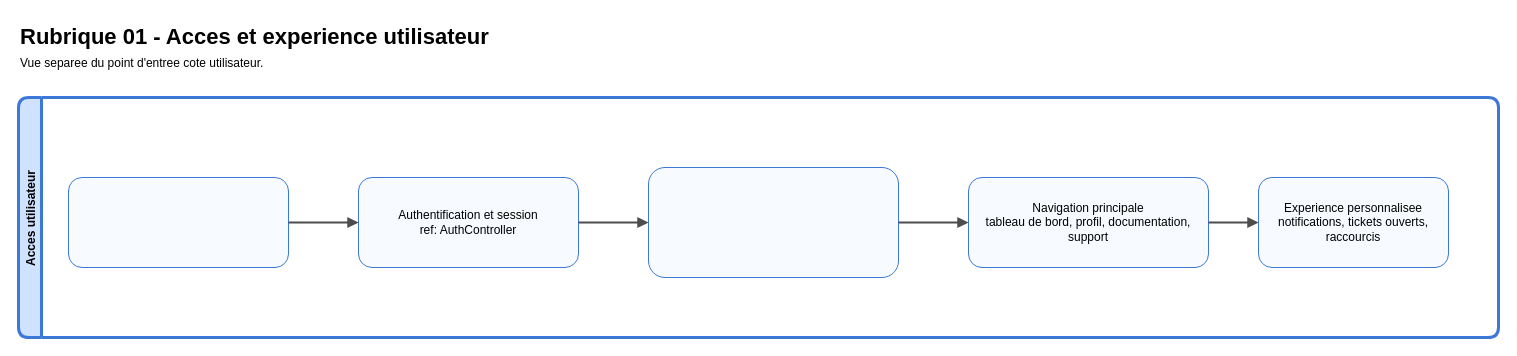
The diagram is 1517 pixels wide and 356 high, and some of its shapes have lost their labels. The box of each missing label's shape, as (x1, y1, x2, y2) in pixels:
Interface web ref: vues Blade pages, formulaires, tableaux de bord: (648, 166, 898, 278)
Utilisateurs entreprise / admin / comptable / investisseur: (68, 176, 288, 268)
